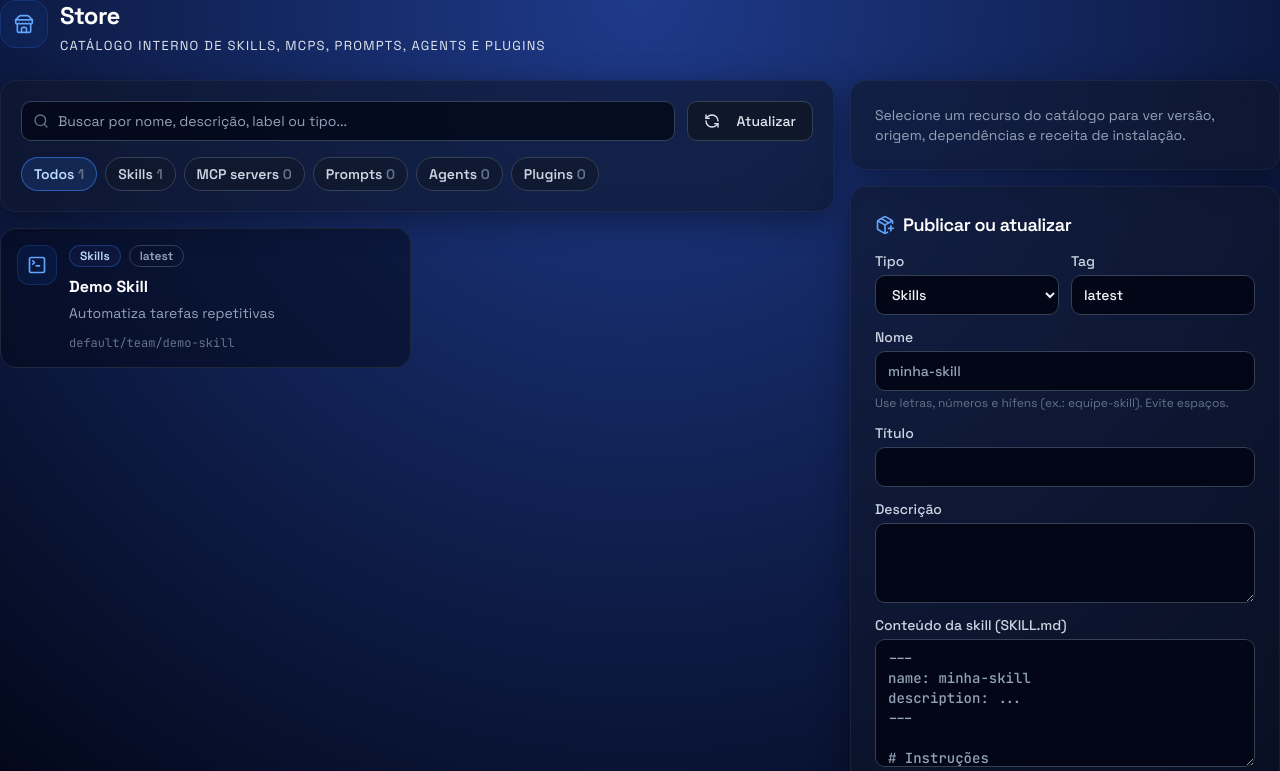
Test: StorePage › renderiza listagem autenticada e carrega detalhe
The width and height of the screenshot is (1280, 771).
Check: the text "Demo Skill" is shown, box [69, 276, 148, 296]
Check: the text "Automatiza tarefas repetitivas" is shown, box [69, 304, 275, 322]
In the field named "Buscar na Store": (348, 120) [21, 100, 676, 140], type "platform"
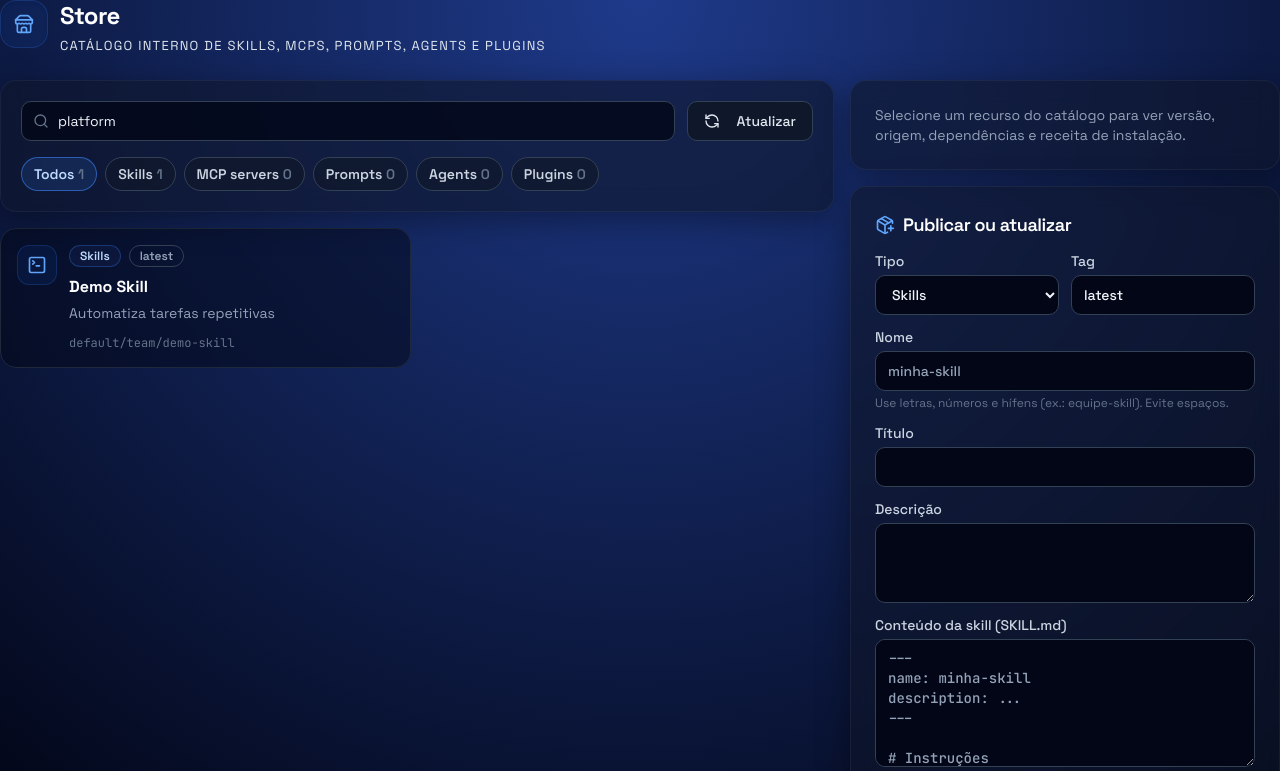
Check: the text "Demo Skill" is shown, box [69, 276, 148, 296]
Click the button "Demo Skill": (37, 264) [0, 228, 411, 368]
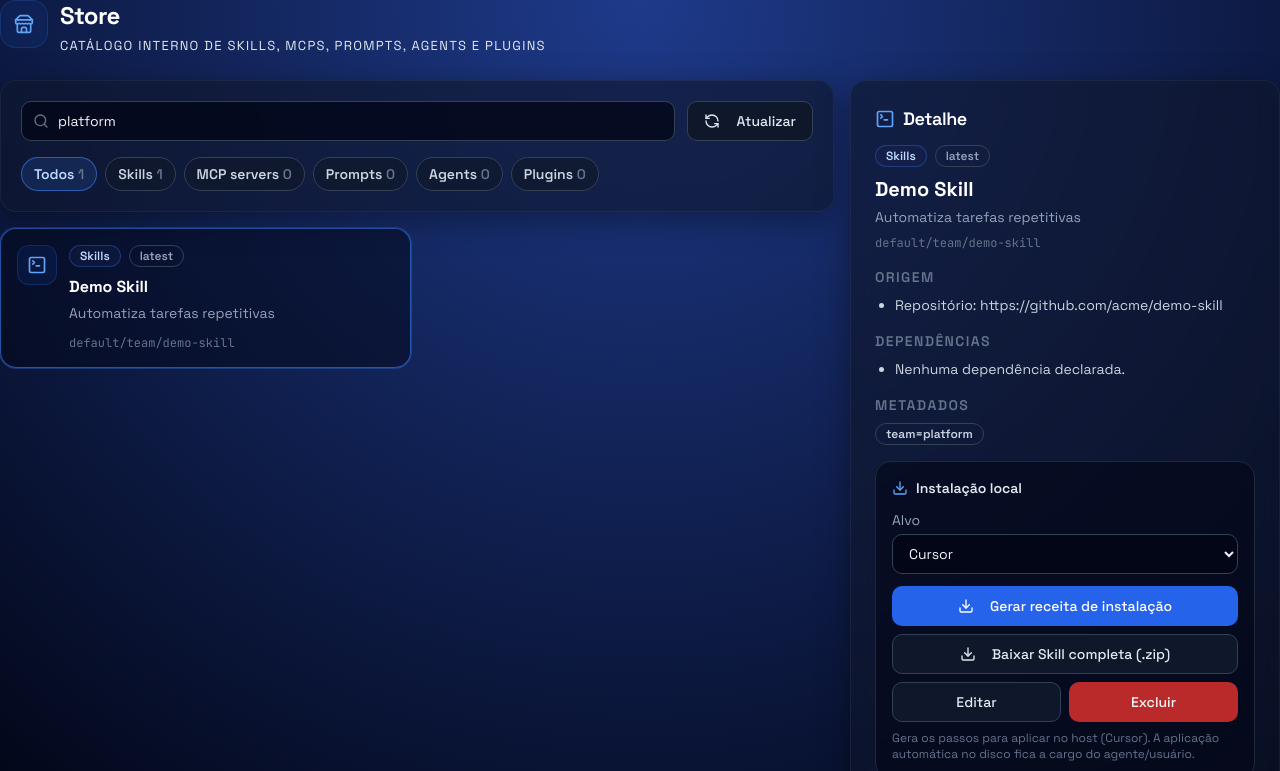
Check: the list item "Repositório: https://github.com/acme/demo-skill" is shown, box [895, 294, 1255, 314]
Check: the button "Gerar receita de instalação" is enabled
Click the button "Gerar receita de instalação": (1065, 606) [892, 586, 1238, 626]
(page scrolled)
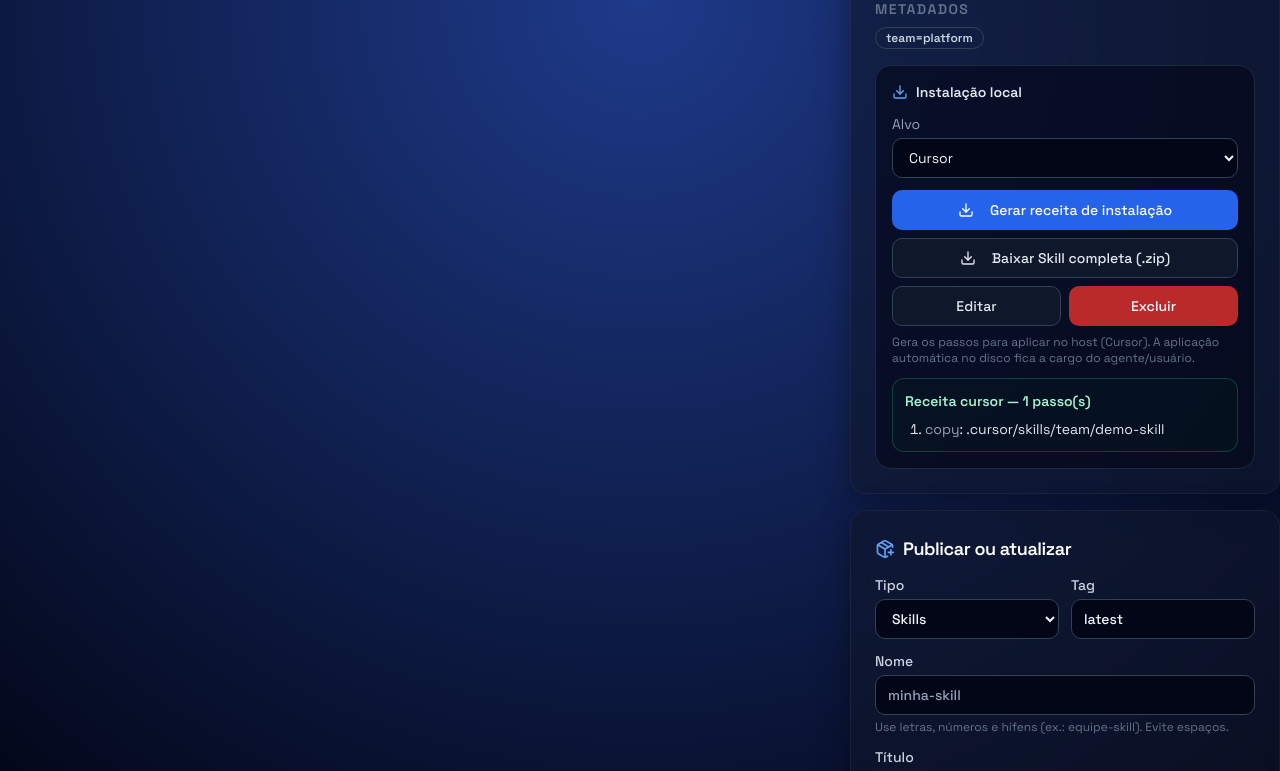
Check: the text "Receita cursor — 1 passo(s)" is shown, box [905, 392, 1091, 410]
